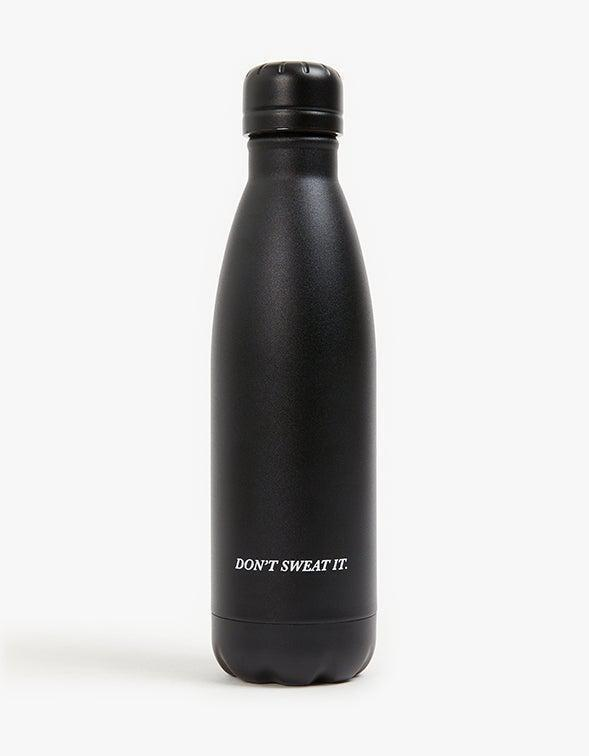gym bottle: (202, 53, 383, 692)
